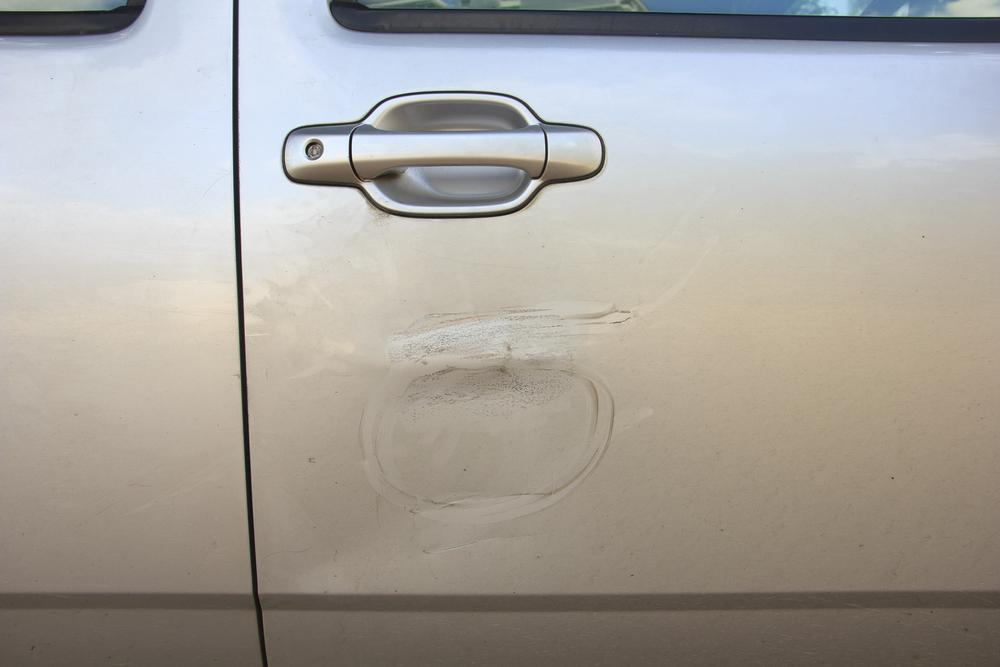dent: (289, 234, 662, 595)
